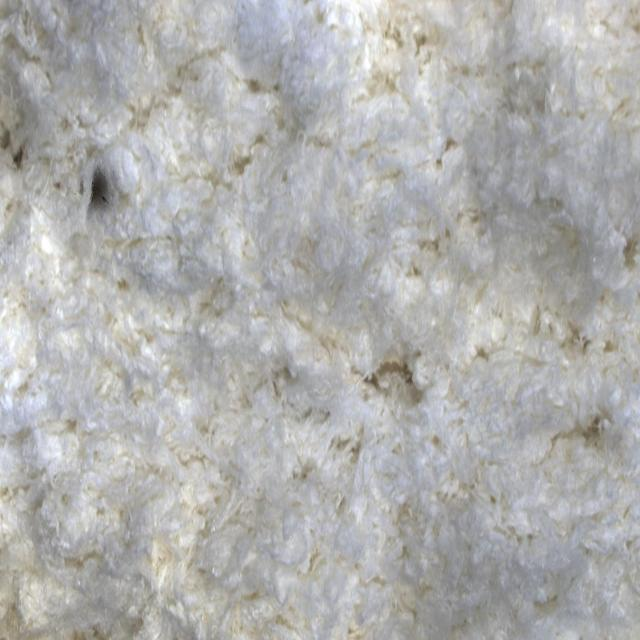dust: (67, 144, 137, 232)
